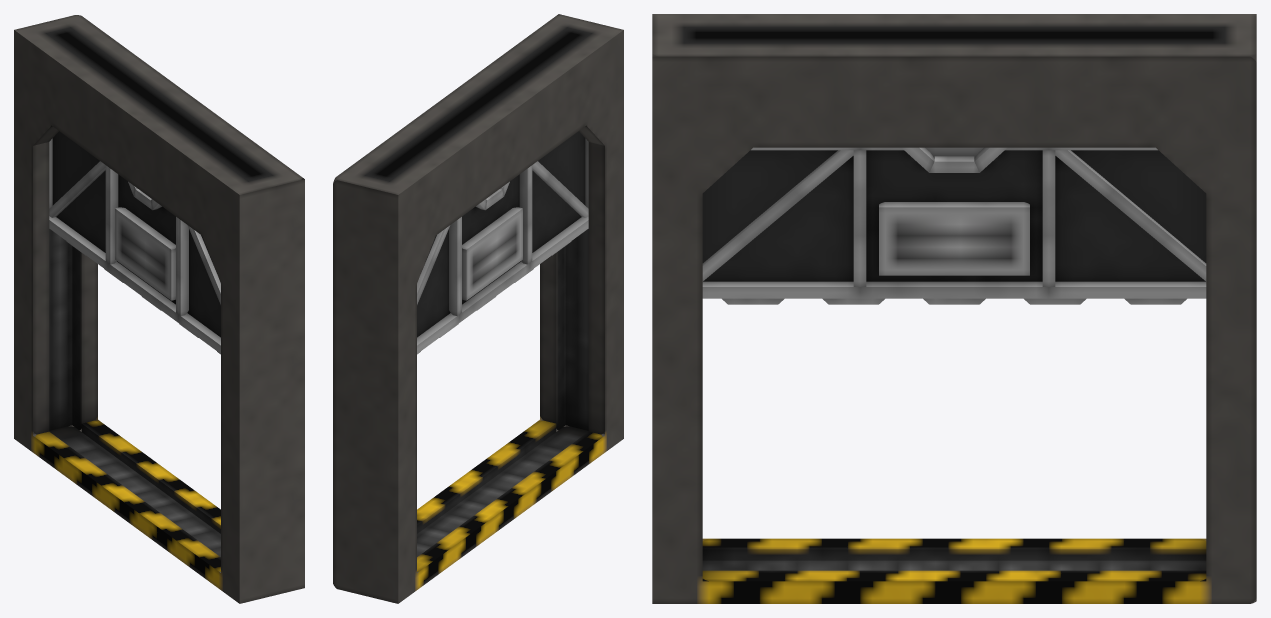
Rendered from qe_containment_106.obj.
3 renders of one model, left to right at view 1: azimuth 30°, elevation 25°; view 2: azimuth 150°, elevation 25°; view 3: azimuth 270°, elevation 25°, orthographic. The views are drawn at different scales.
Visible parts, largest first — view 1: Frame, Door; view 2: Frame, Door; view 3: Frame, Door.
Part boxes in pixels (box(x1,y1,x2,y2)): Frame: box(14, 15, 304, 603); Door: box(49, 131, 220, 354); Frame: box(333, 14, 623, 603); Door: box(417, 131, 588, 354); Frame: box(652, 14, 1256, 603); Door: box(702, 147, 1206, 304).
Bounding box in the file's own units: 0.5 × 3 × 3.
